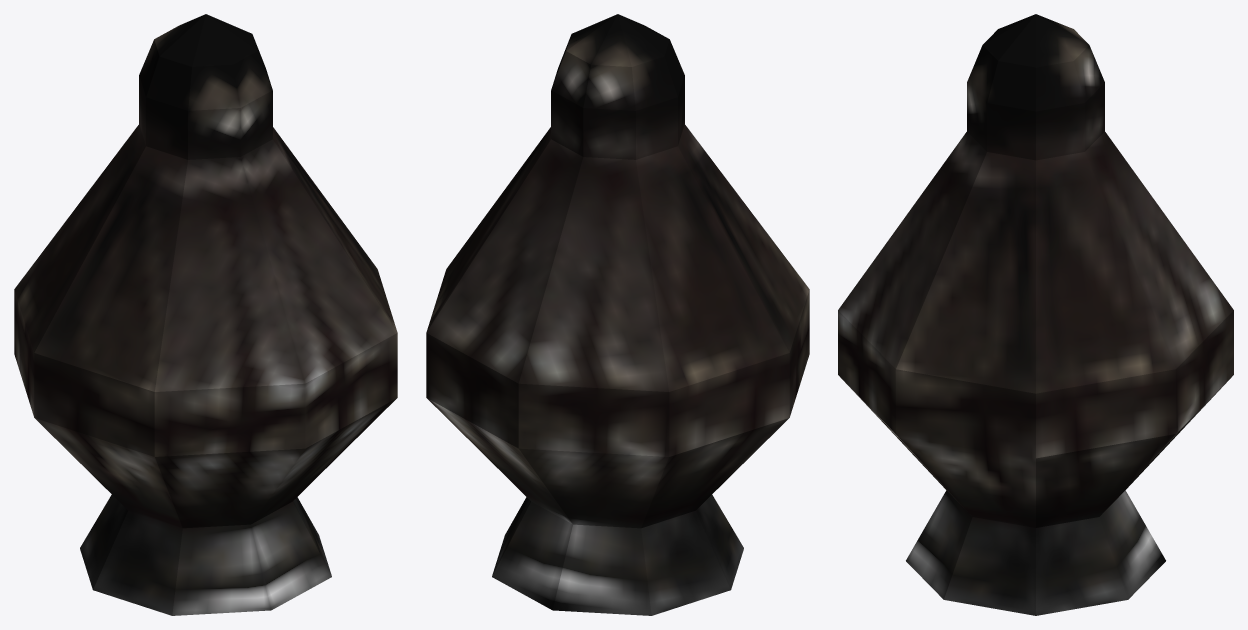
Rendered from Wand_tail_default.FBX.
3 views of the same model, side by side, from view 1: azimuth 30°, elevation 25°; view 2: azimuth 150°, elevation 25°; view 3: azimuth 270°, elevation 25° (orthographic).
Parts seen in each view (by area): view 1: Wand_tail_default; view 2: Wand_tail_default; view 3: Wand_tail_default.
Part boxes in pixels (<box>): Wand_tail_default: <box>14,14,397,615</box>; Wand_tail_default: <box>426,14,809,615</box>; Wand_tail_default: <box>838,14,1233,615</box>.
Size of the model in its own units: 6.84 by 10.44 by 6.85.
Materials: 1 (1 with a texture image).
